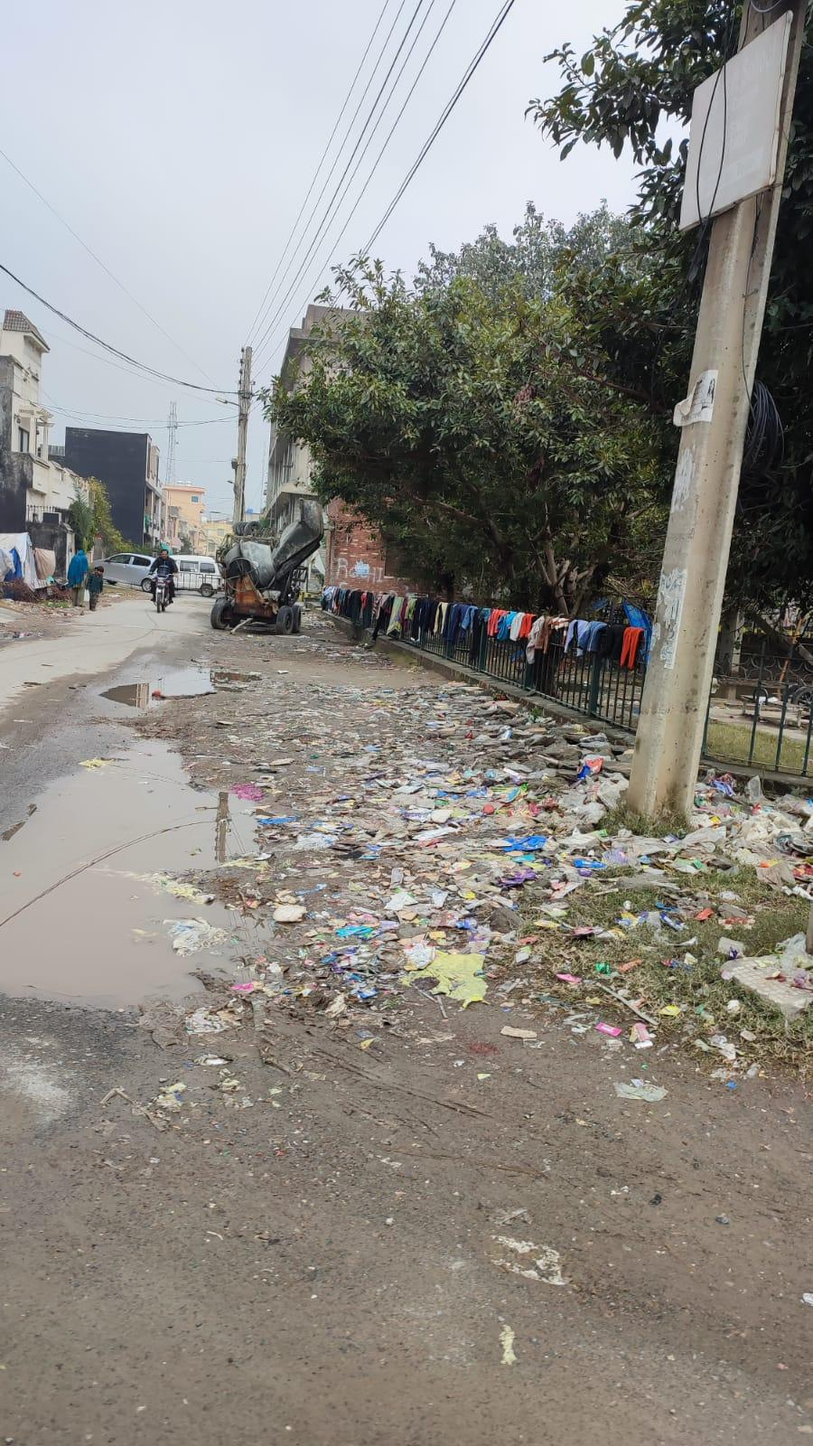garbage: (212, 691, 813, 1083)
